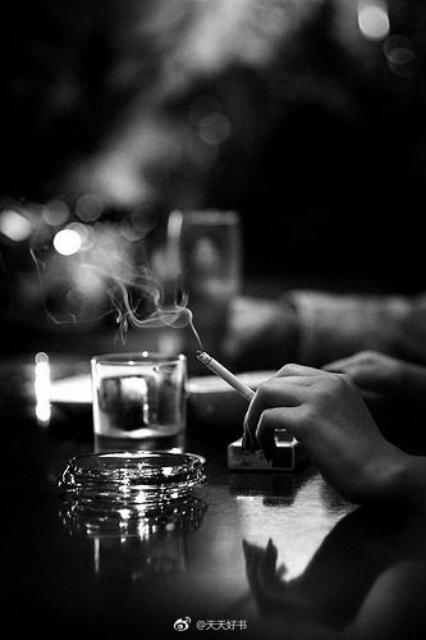Cigarette: (193, 346, 255, 402)
